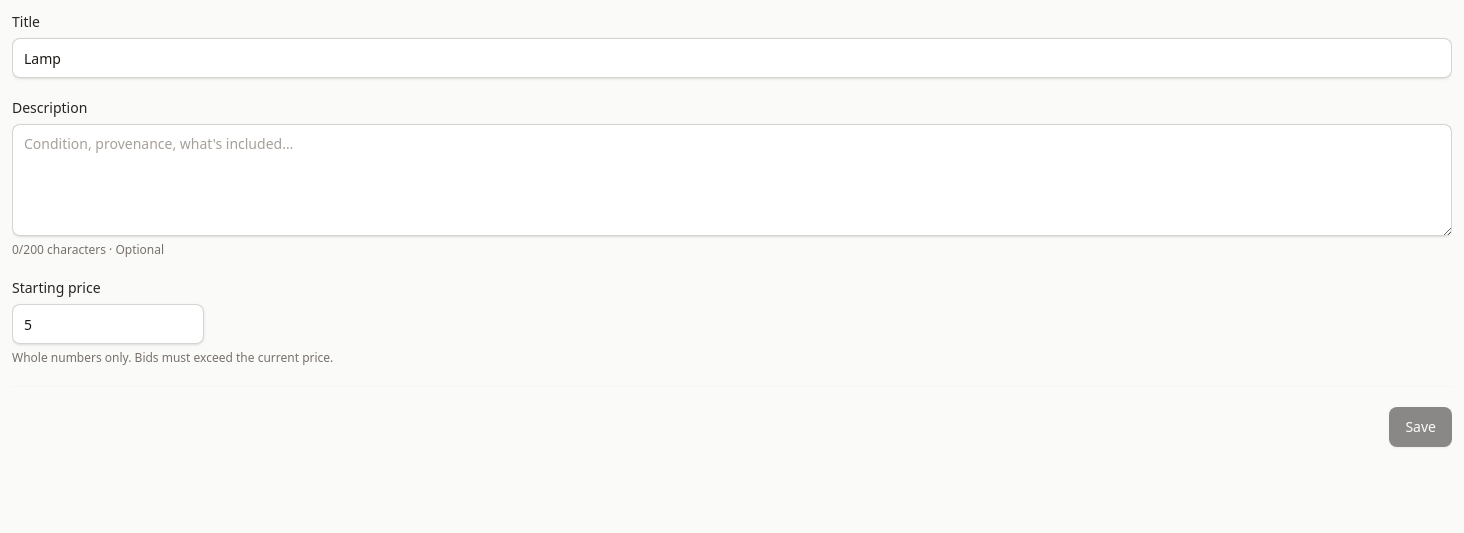
Scenario: ProductForm › shows API errors returned on submit
In the field labelled "Title": (732, 58) [12,38,1452,78], type "!"
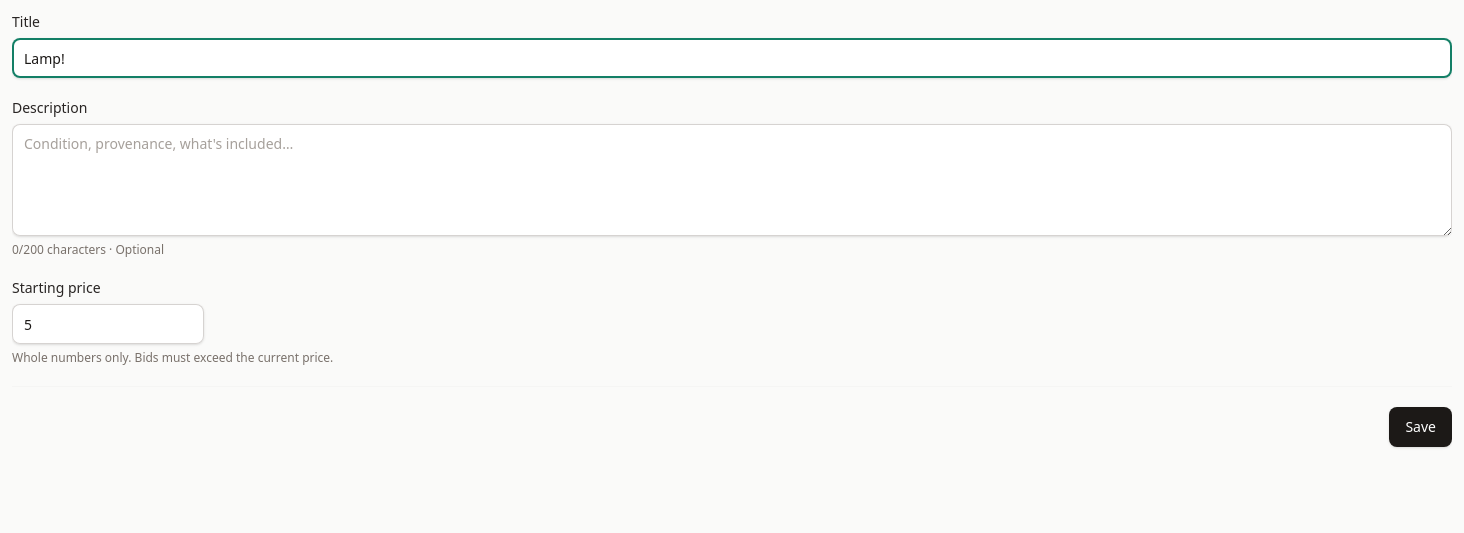
Click the button "Save": click(1421, 427) [1389,407,1452,447]
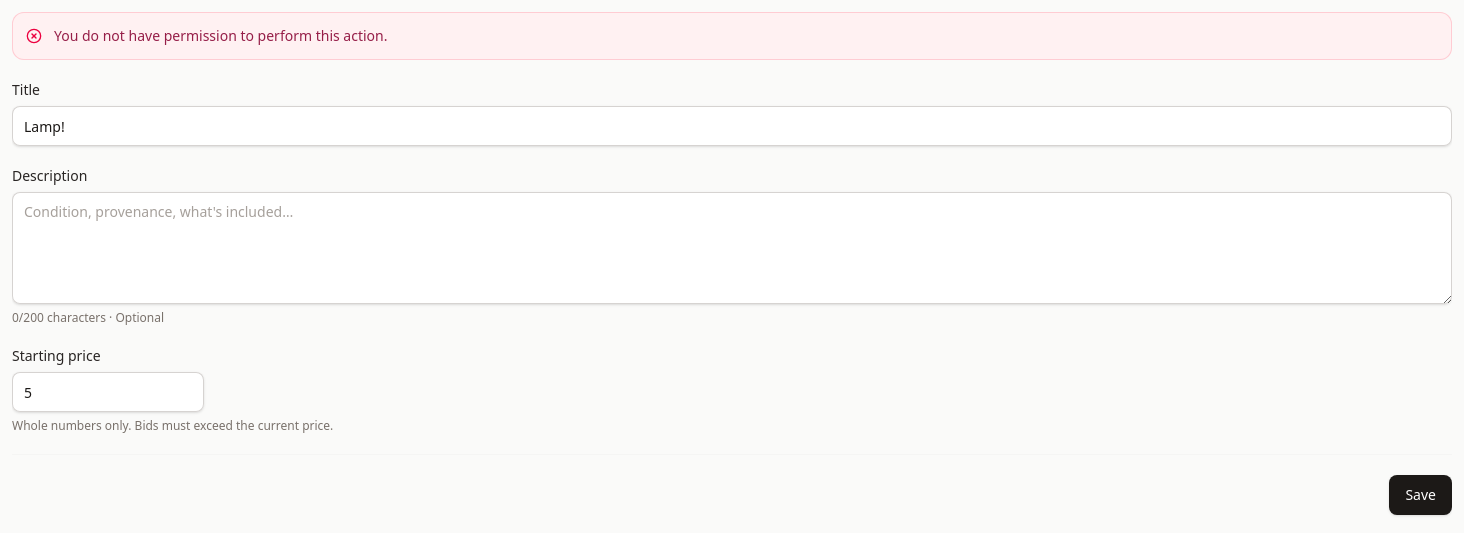
Now the text "You do not have permission to perform this action." is shown, box [54,26,388,46]
